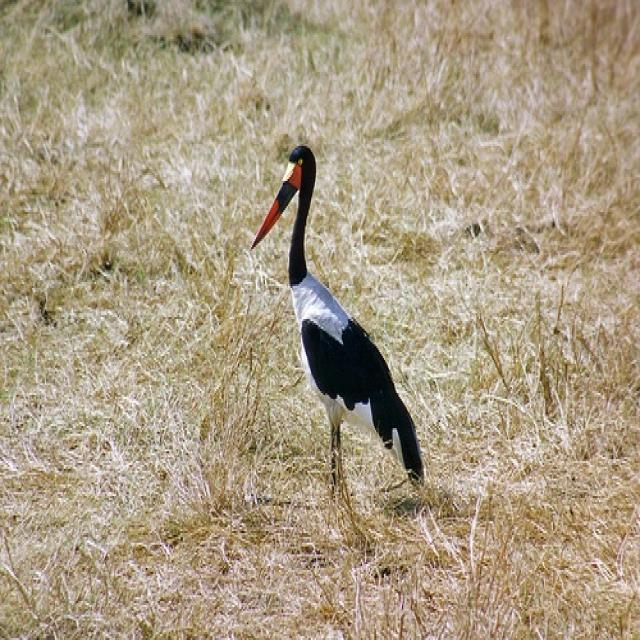bird: (250, 144, 426, 552)
